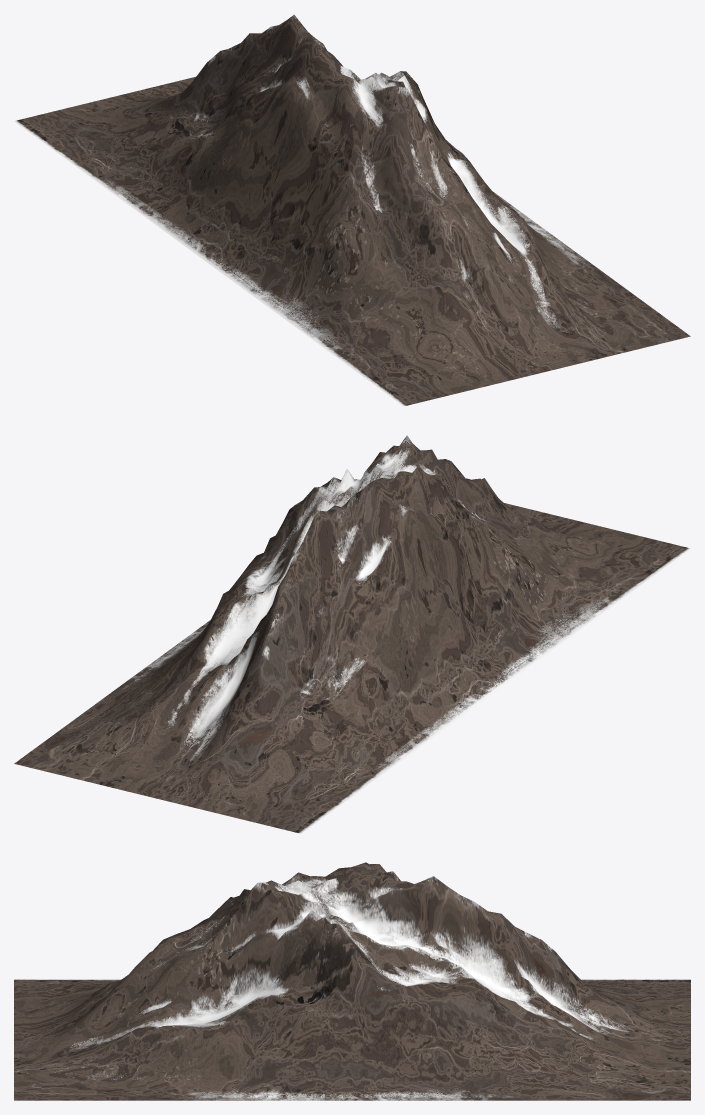
File: mountain.glb
3 renders of one model, top to bottom at view 1: azimuth 30°, elevation 25°; view 2: azimuth 150°, elevation 25°; view 3: azimuth 270°, elevation 25°, orthographic. The views are drawn at different scales.
Parts seen in each view (by area): view 1: Object_2; view 2: Object_2; view 3: Object_2.
Part boxes in pixels (x1=…): Object_2: x1=14, y1=14, x2=690, y2=406; Object_2: x1=14, y1=435, x2=690, y2=833; Object_2: x1=14, y1=862, x2=690, y2=1100.
Bounding box in the file's own units: 60 × 37.62 × 141.
1 material, 1 textured.
